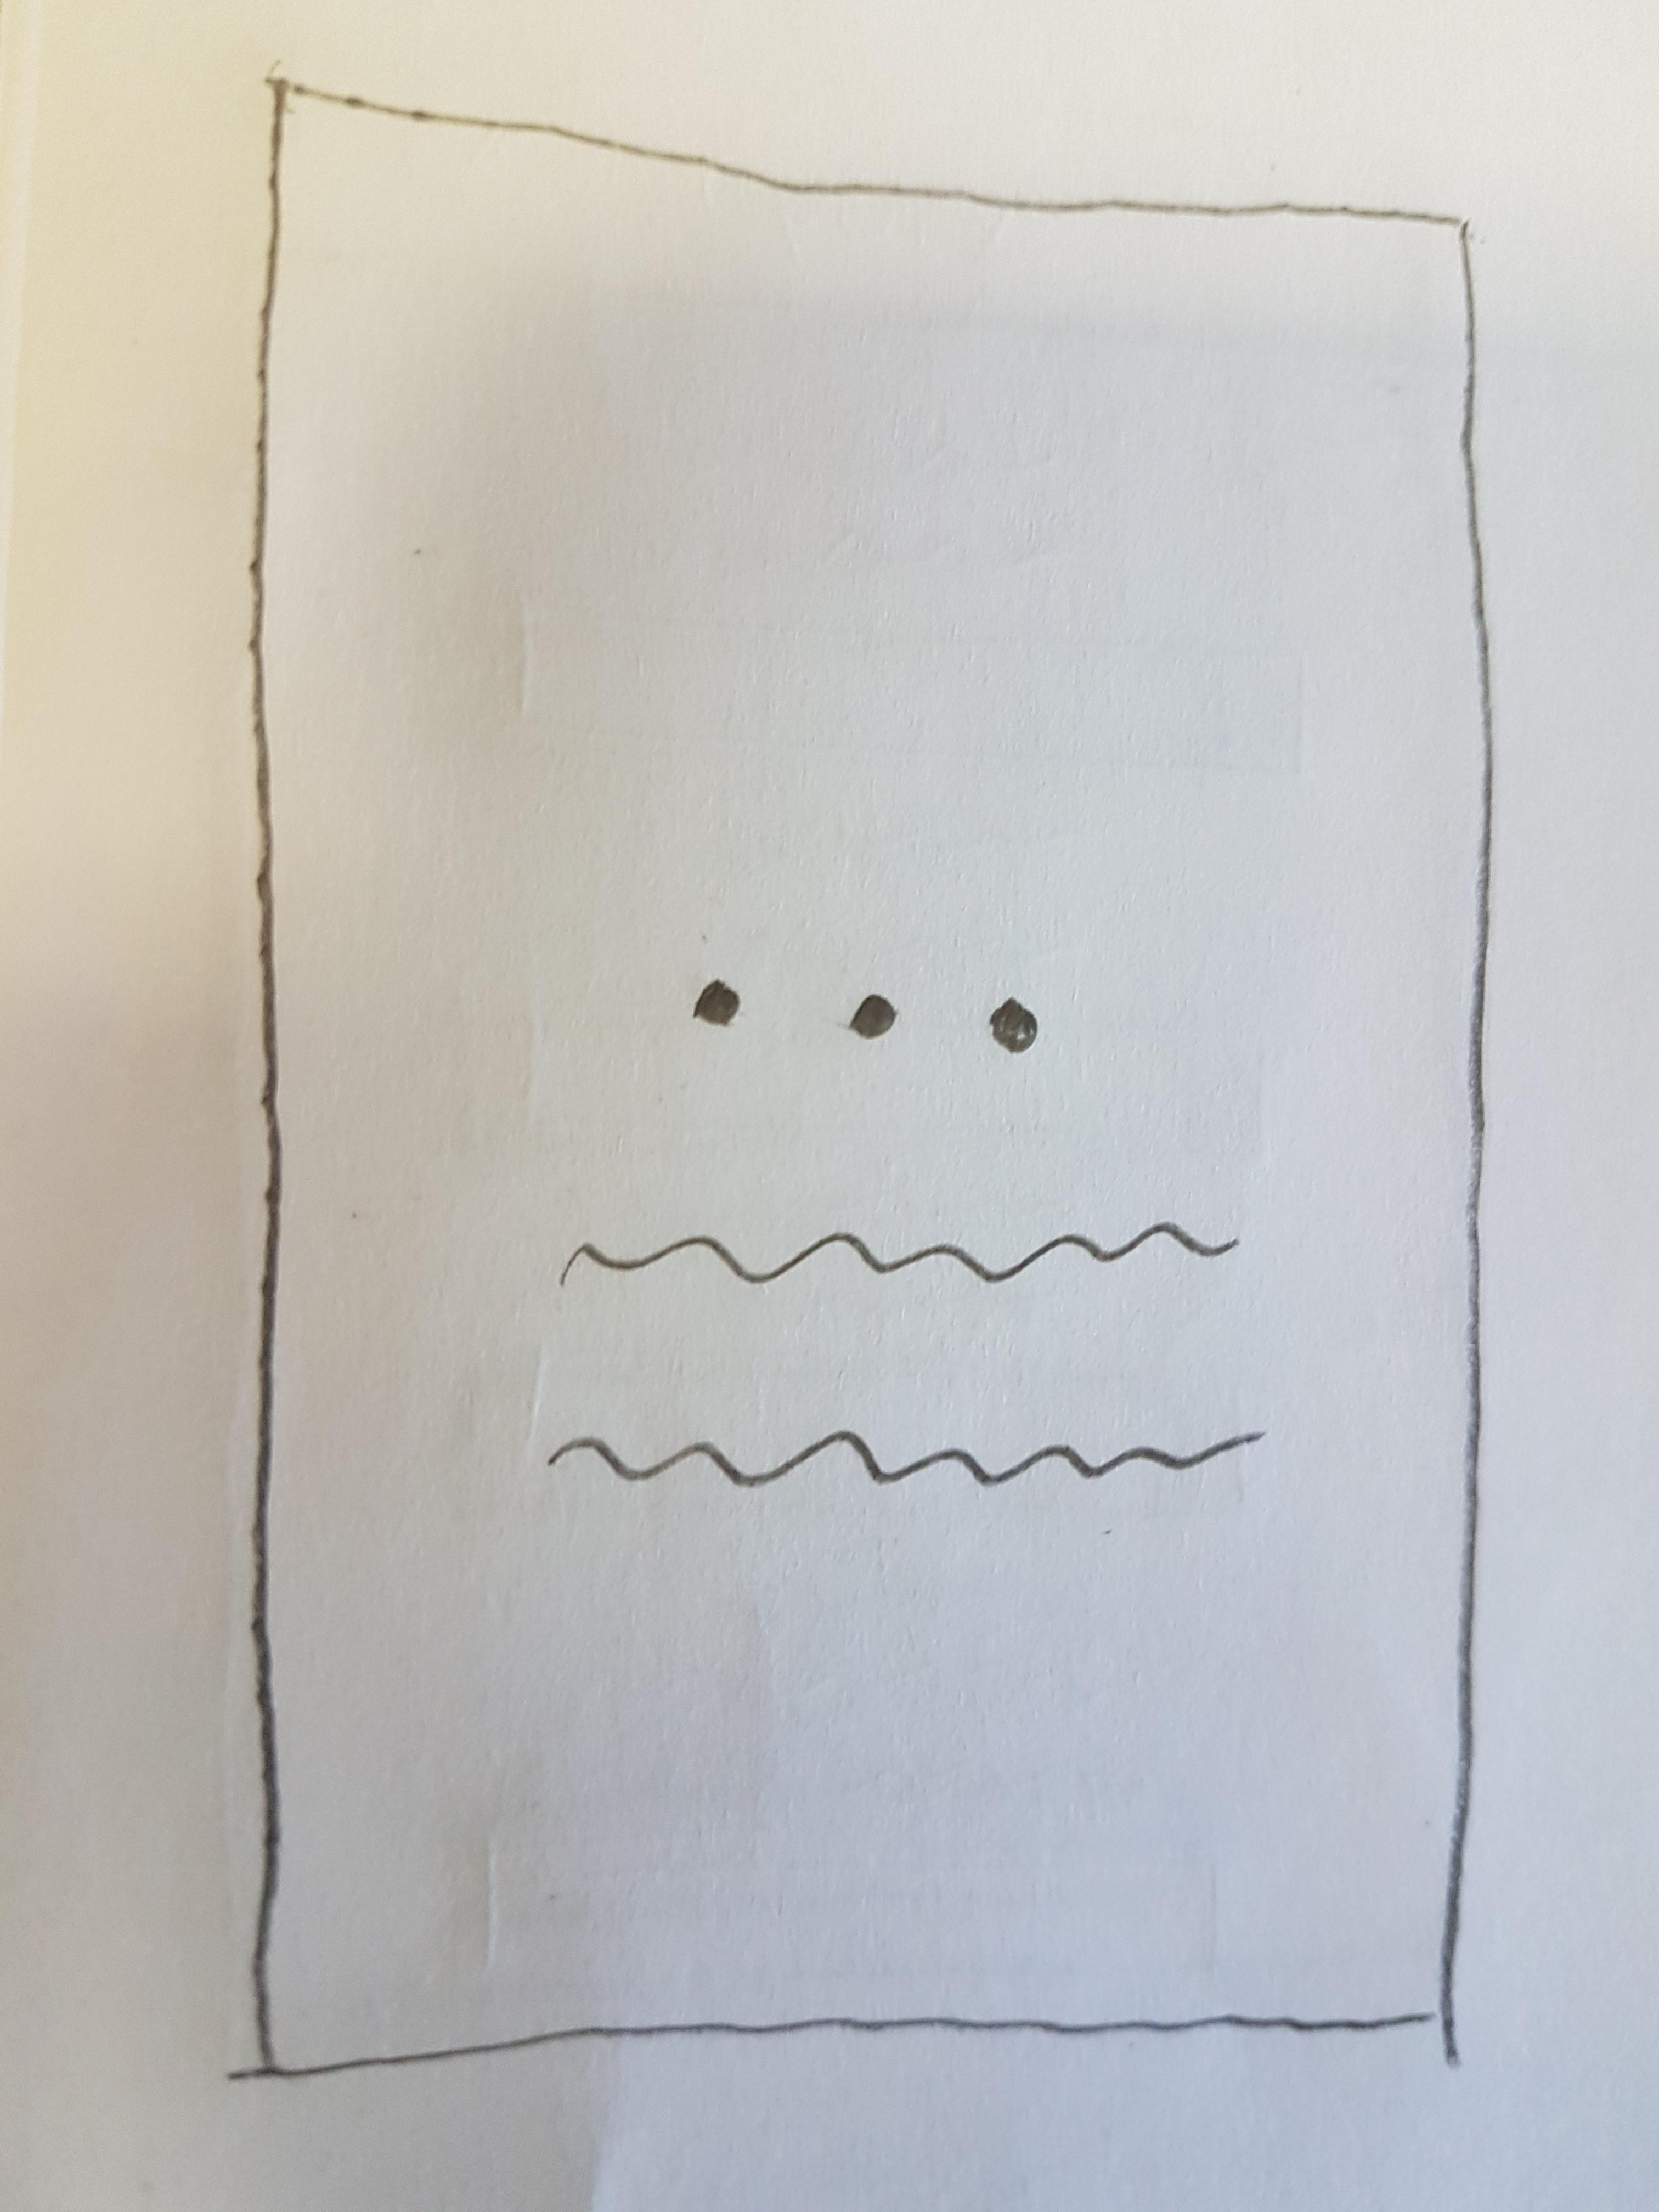Label: (559, 1228, 1270, 1500), (683, 974, 1047, 1069)
Screen: (261, 77, 1492, 2078)
